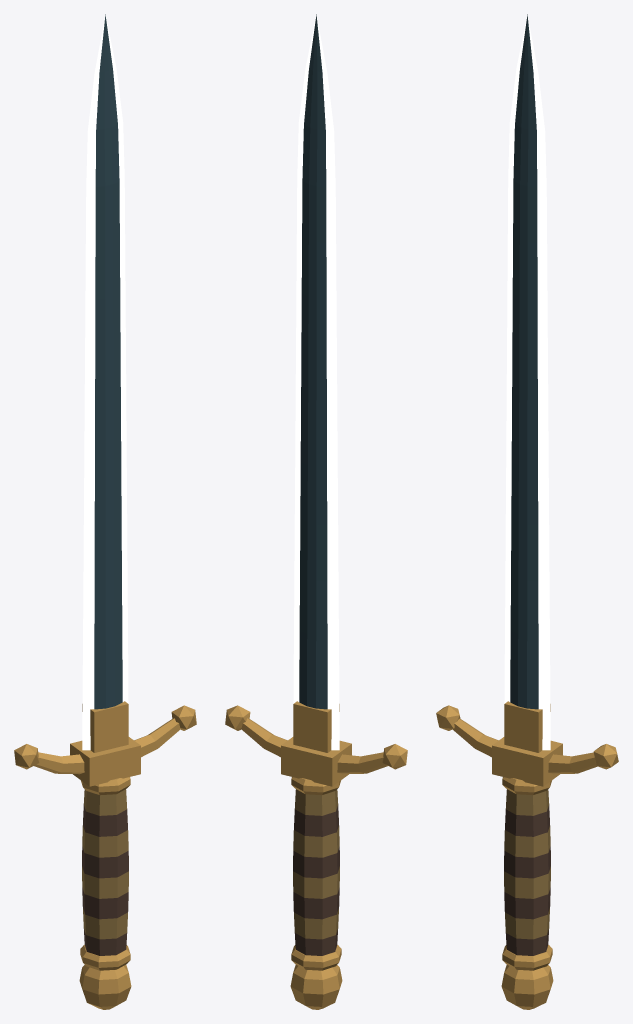
File: glass_blade.glb
3 renders of one model, left to right at view 1: azimuth 30°, elevation 25°; view 2: azimuth 150°, elevation 25°; view 3: azimuth 330°, elevation 25°, orthographic.
Visible parts, largest first — view 1: glass_blade; view 2: glass_blade; view 3: glass_blade.
Part boxes in pixels (x1,y1,x2,y2): glass_blade: (14,14,196,1009); glass_blade: (225,14,407,1009); glass_blade: (436,14,618,1009).
Bounding box in the file's own units: 0.2622 × 1.39 × 0.068.
